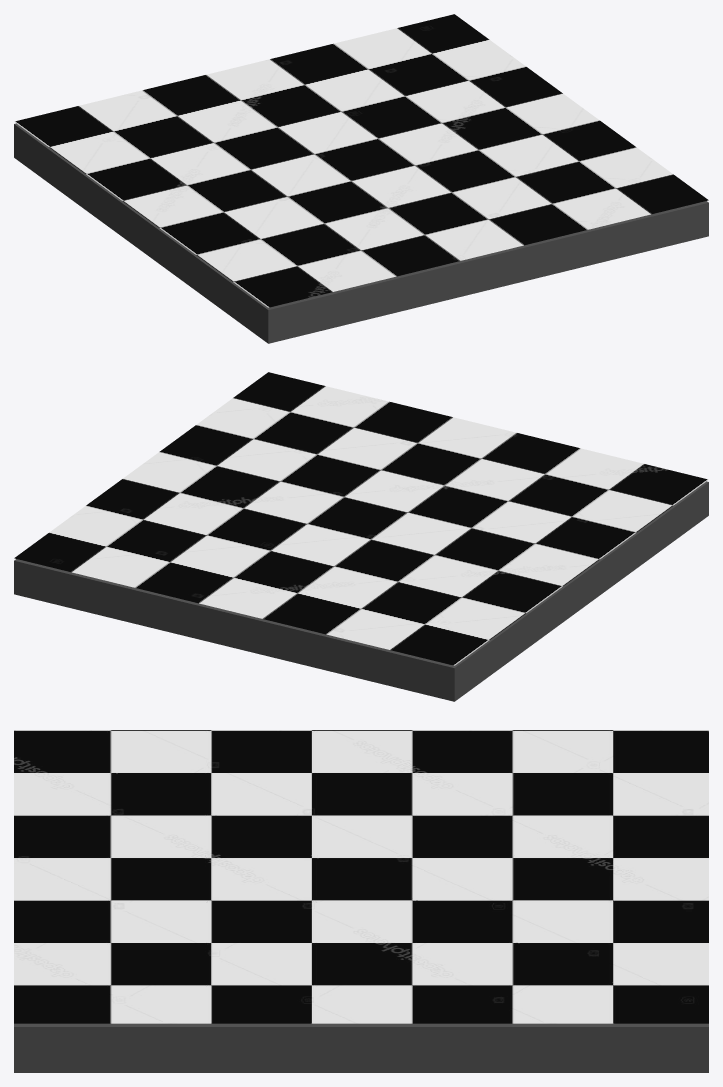
File: Chess_blockout.fbx
3 views of the same model, one above another, from view 1: azimuth 30°, elevation 25°; view 2: azimuth 150°, elevation 25°; view 3: azimuth 270°, elevation 25° (orthographic). The views are drawn at different scales.
Visible parts, largest first — view 1: Chess1; view 2: Chess1; view 3: Chess1.
Boxes of the visible parts, x1,y1,x2,y2 form: Chess1: (14,14,708,343); Chess1: (14,372,708,701); Chess1: (14,730,708,1072).
Size of the model in its own units: 15.39 by 1.2 by 15.39.
